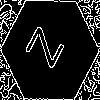Z: (25, 25, 72, 75)
